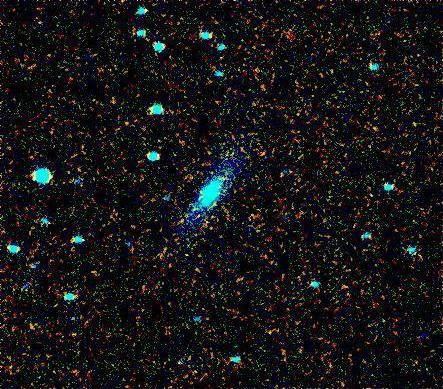star: (200, 191, 230, 221)
